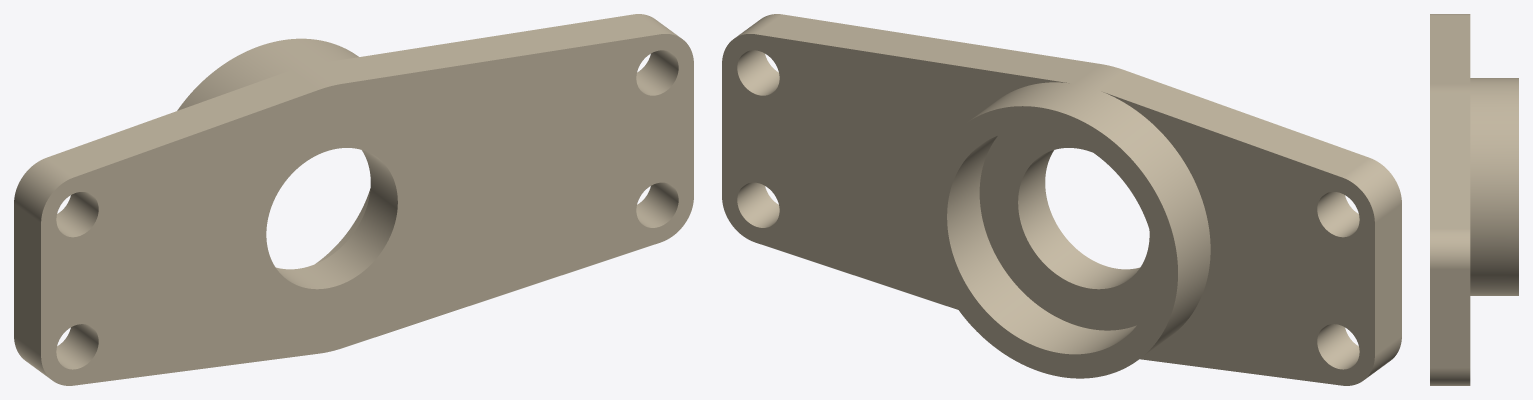
File: bearing_holder.glb
3 views of the same model, side by side, from view 1: azimuth 30°, elevation 25°; view 2: azimuth 150°, elevation 25°; view 3: azimuth 270°, elevation 25° (orthographic). The views are drawn at different scales.
Visible parts, largest first — view 1: bearing_holder; view 2: bearing_holder; view 3: bearing_holder.
Part boxes in pixels (bbox=[...]): bearing_holder: bbox=[14, 14, 693, 385]; bearing_holder: bbox=[722, 14, 1401, 385]; bearing_holder: bbox=[1430, 14, 1518, 385].
Bounding box in the file's own units: 69.54 × 27 × 11.
